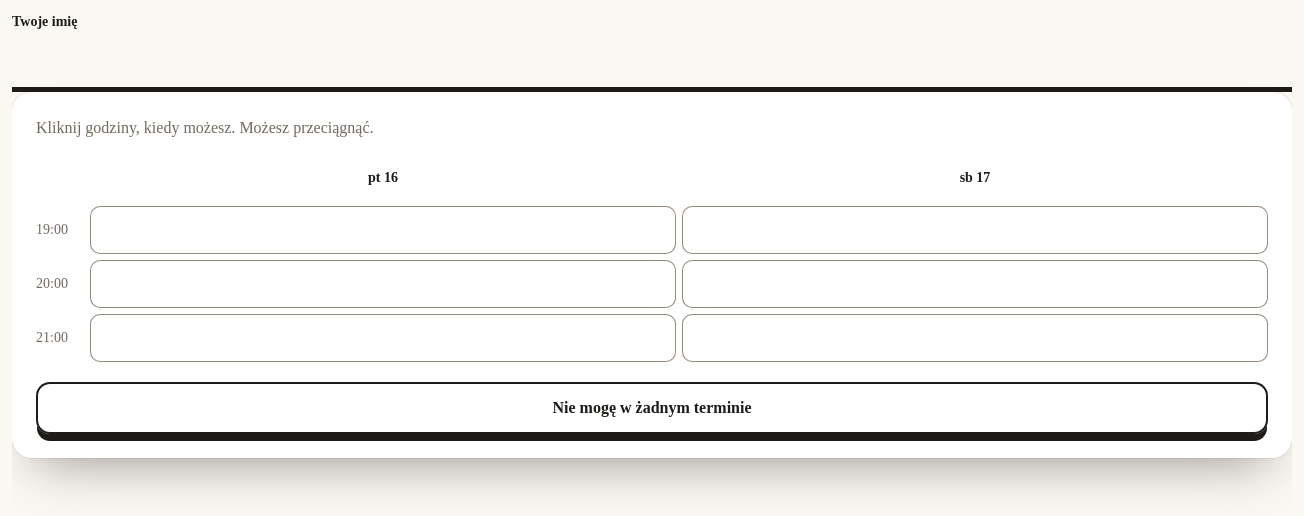
the Moje lead and body › saves the name and the tapped hours without a button and says so
The image size is (1304, 516).
Type "Ola" into the field labelled "Twoje imię".
click(652, 66); type("Ola")  # box top-left (12, 40), bottom-right (1292, 92)
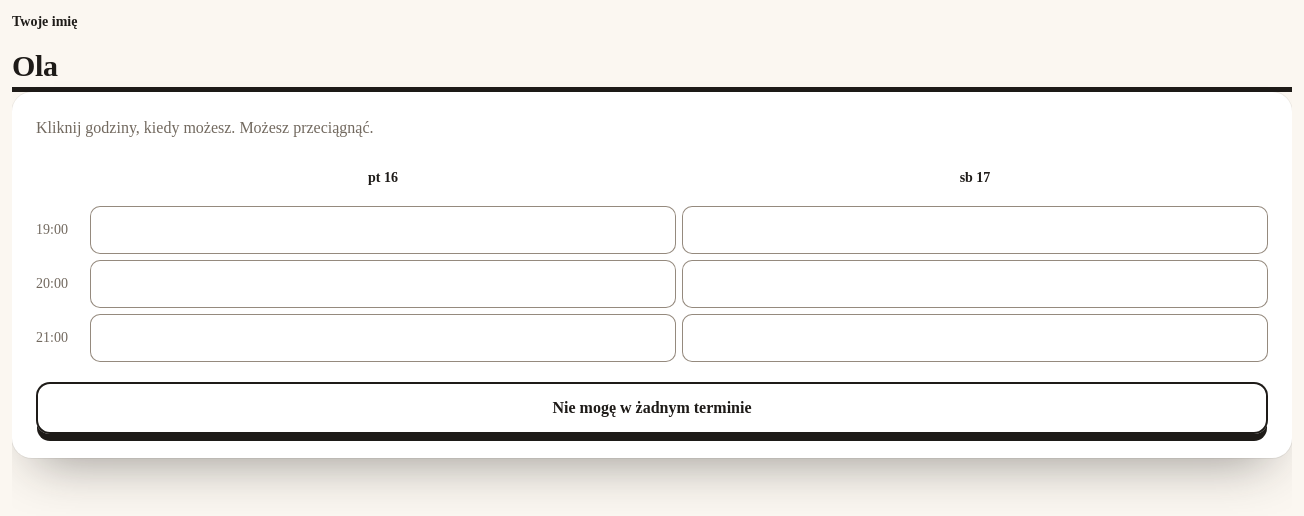
Click the button named "pt 16, 19:00".
click(383, 230)  # box top-left (90, 206), bottom-right (676, 254)
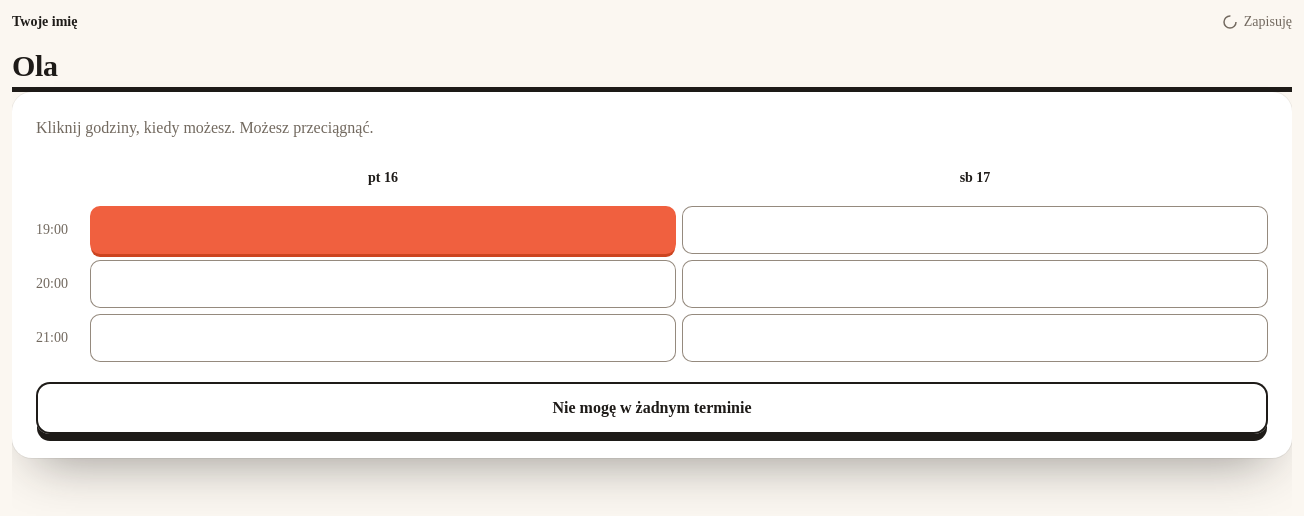
Click the button named "sb 17, 20:00".
click(975, 284)  # box top-left (682, 260), bottom-right (1268, 308)
Wait 500 ms
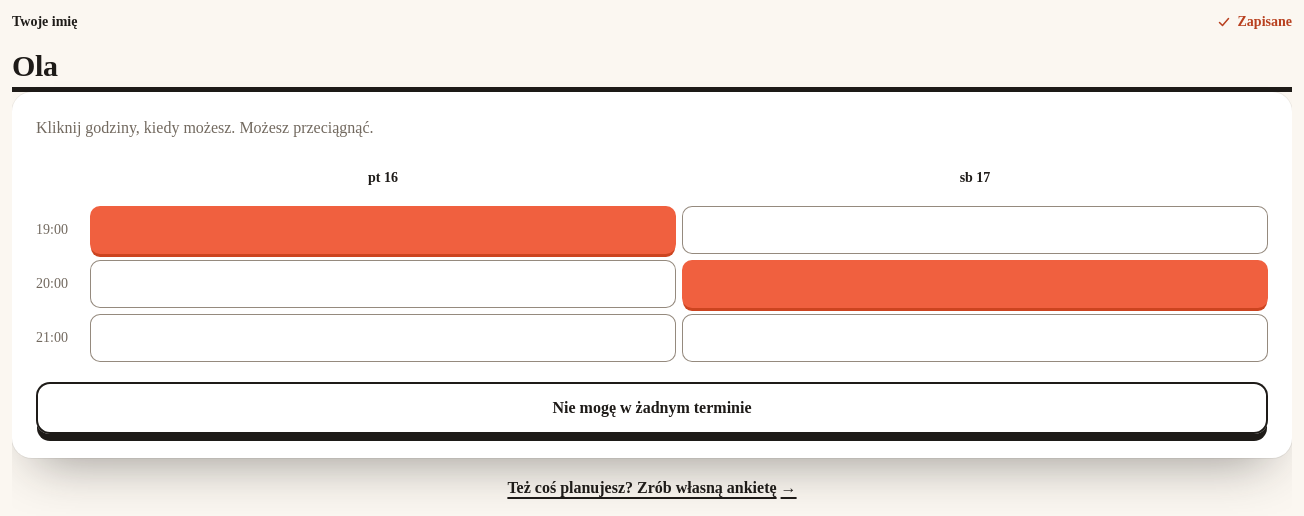
Now the message reads "Zapisane", box top-left (1238, 14), bottom-right (1292, 29)
